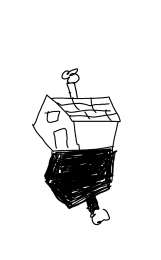door: (51, 126, 72, 153)
open_window: (44, 109, 62, 124)
roof: (25, 93, 125, 125)
shadow: (41, 146, 124, 227)
small_house: (1, 3, 161, 259)
smoking_chimney: (59, 64, 83, 99)
wall: (70, 115, 124, 152)
